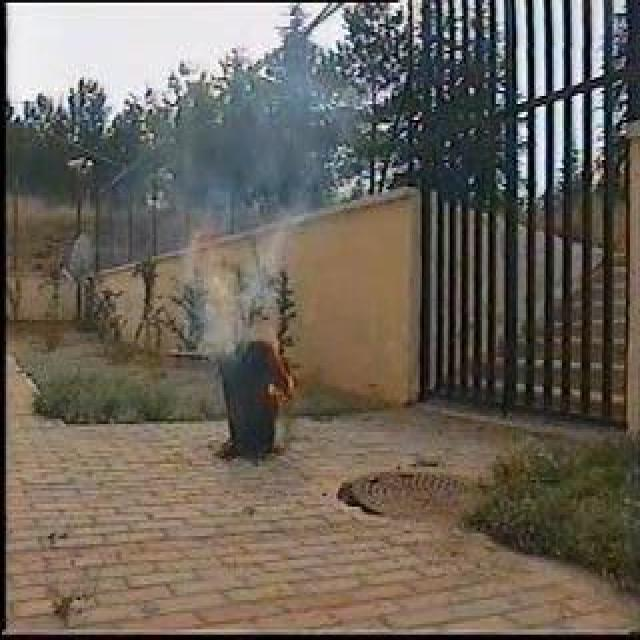Fire: (272, 336, 296, 403)
Smoke: (198, 217, 270, 335)
